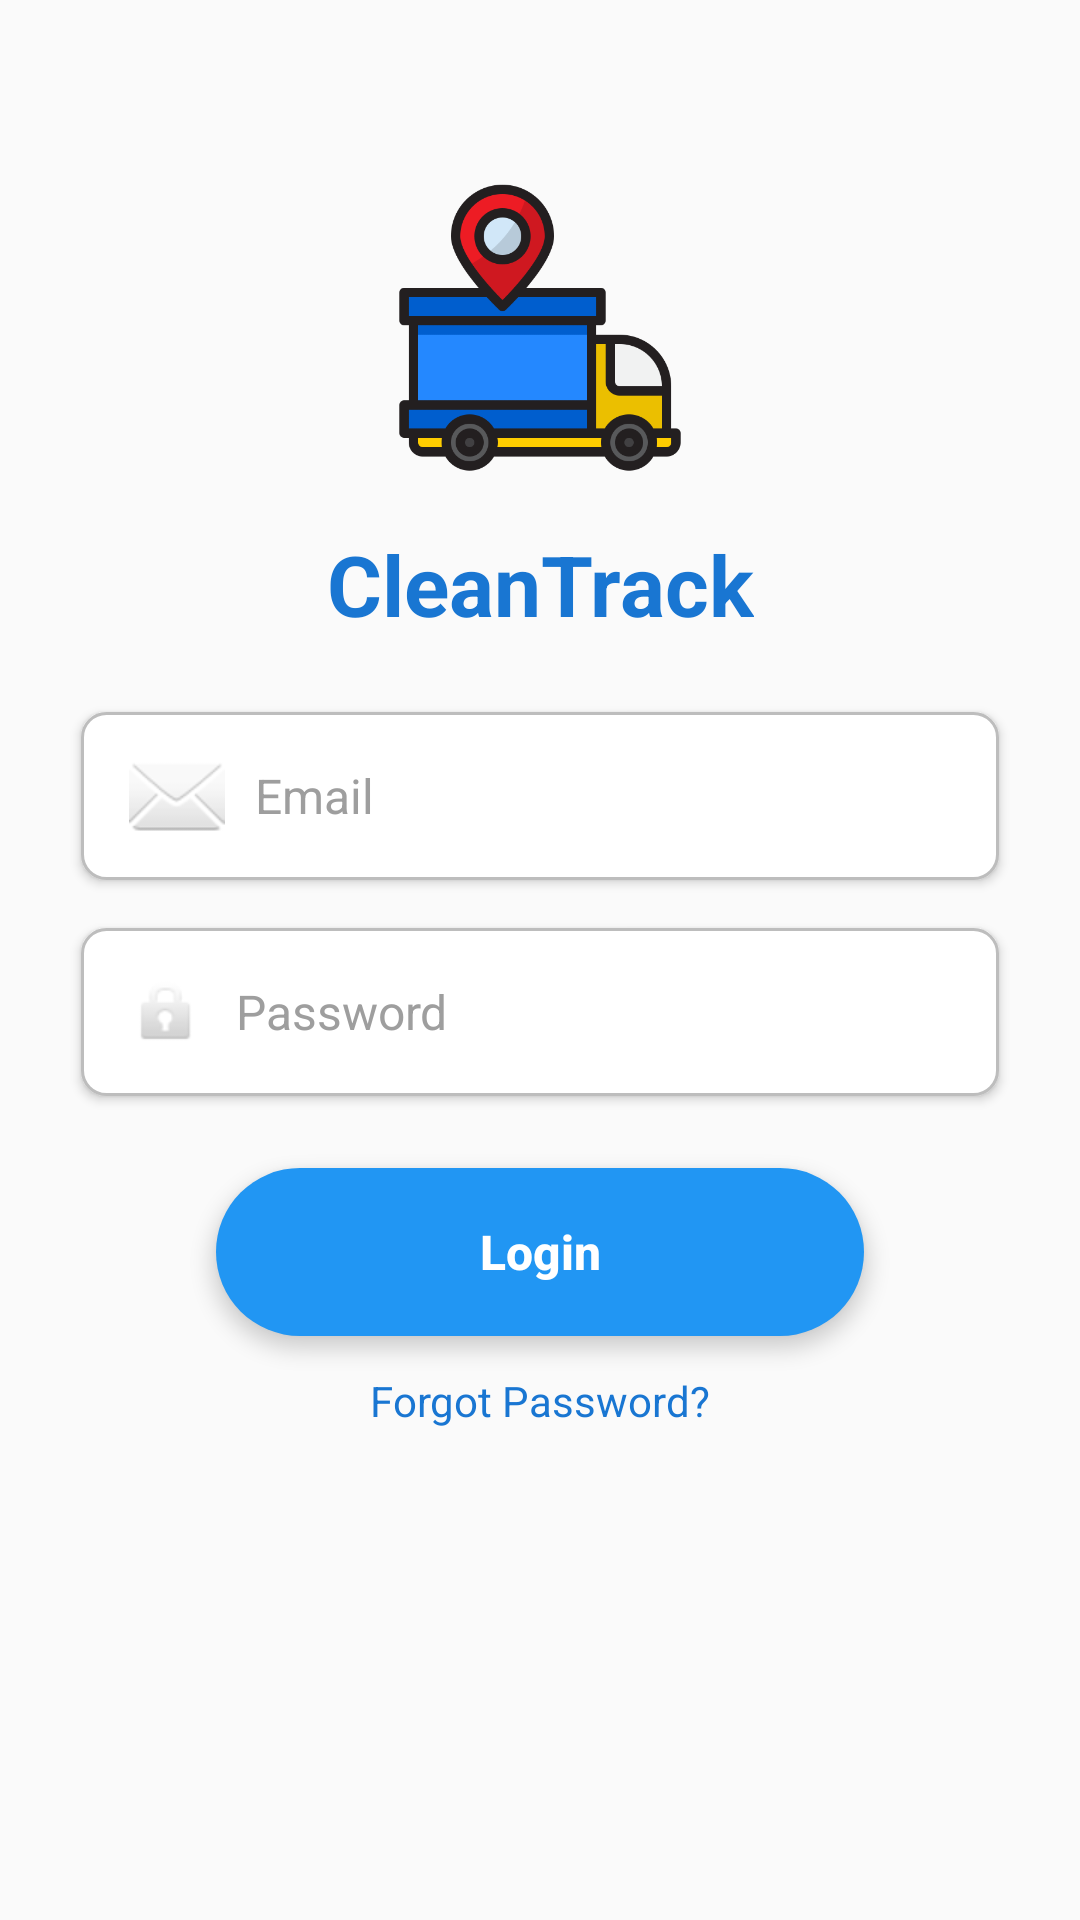

Named icons in this screenshot (1080×1920) and their centers, [x,y]:
truck: [540,327]
